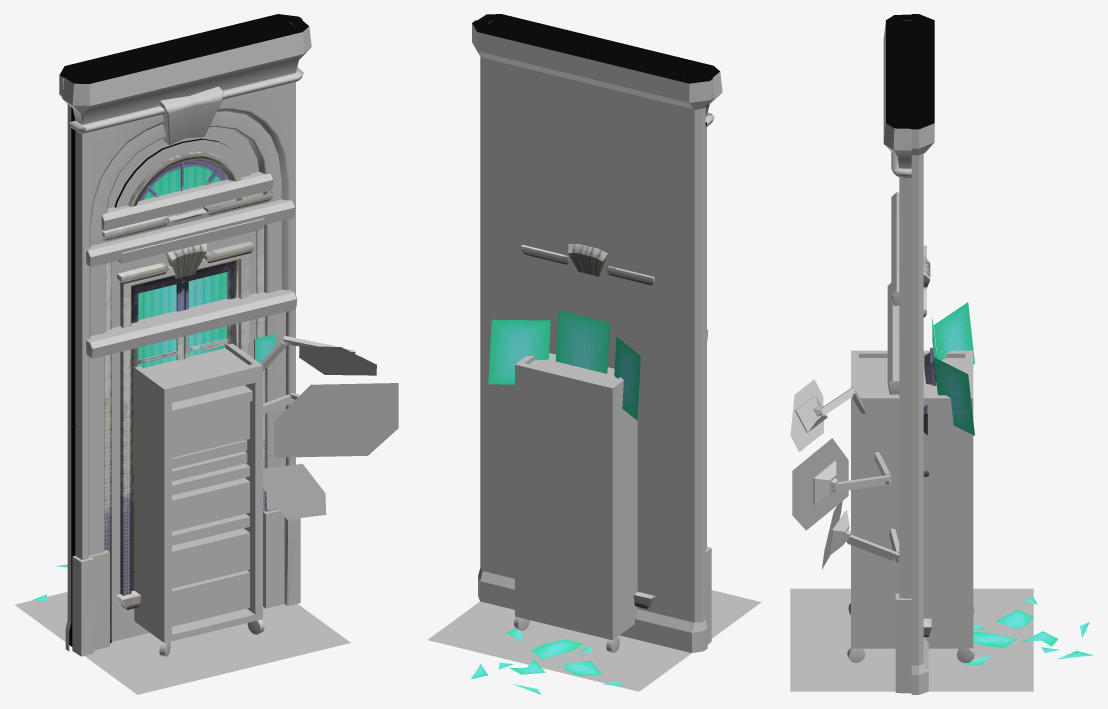
The model's file is Level1_Structure.fbx.
3 views of the same model, side by side, from view 1: azimuth 30°, elevation 25°; view 2: azimuth 150°, elevation 25°; view 3: azimuth 270°, elevation 25° (orthographic).
Parts seen in each view (by area): view 1: Walls_Arch (×5), ServerBase, Panels, polySurface13 (×2), Floor_Cobble, ServerBase3, Walls_WallpaperTrimYellow (×2), DoorFrame, WallCore, pCube84 (×2), Walls_Arch1, ServerBase2 (+1 smaller); view 2: Walls_WallpaperTrimYellow (×5), ServerBase, Floor_Cobble, Base, Walls_Arch (×3), WallCore, polySurface13, pCube84, Walls_Low_Edge_Walls_WallpaperTrimYellow, Walls_Arch1; view 3: ServerBase, Walls_Arch (×3), Floor_Cobble, Walls_WallpaperTrimYellow (×3), Panels, Base, WallCore, pCube84, Walls_Low_Edge_Walls_WallpaperTrimYellow, Walls_Low_Edge_Walls_Arch, polySurface13.
Boxes of the visible parts, box(x1,y1,x2,y2) form: Walls_Arch (×5): box(62, 20, 311, 656); ServerBase: box(134, 343, 264, 656); Panels: box(260, 336, 398, 519); polySurface13 (×2): box(116, 151, 254, 609); Floor_Cobble: box(14, 592, 350, 694); ServerBase3: box(172, 385, 252, 545); Walls_WallpaperTrimYellow (×2): box(59, 14, 302, 651); DoorFrame: box(101, 191, 275, 643); WallCore: box(70, 18, 295, 646); pCube84 (×2): box(33, 165, 227, 601); Walls_Arch1: box(72, 218, 290, 656); ServerBase2: box(172, 552, 249, 614); Walls_WallpaperTrimYellow (×5): box(472, 20, 713, 652); ServerBase: box(514, 353, 637, 652); Floor_Cobble: box(428, 590, 761, 691); Base: box(488, 310, 640, 420); Walls_Arch (×3): box(477, 14, 722, 643); WallCore: box(483, 19, 706, 125); polySurface13: box(521, 244, 652, 608); pCube84: box(471, 628, 621, 694); Walls_Low_Edge_Walls_WallpaperTrimYellow: box(478, 428, 707, 651); Walls_Arch1: box(705, 421, 711, 644); ServerBase: box(847, 350, 974, 662); Walls_Arch (×3): box(883, 14, 911, 693); Floor_Cobble: box(790, 588, 1033, 691); Walls_WallpaperTrimYellow (×3): box(911, 14, 934, 694); Panels: box(790, 379, 899, 569); Base: box(924, 302, 974, 435); WallCore: box(899, 20, 923, 177); pCube84: box(962, 597, 1092, 665); Walls_Low_Edge_Walls_WallpaperTrimYellow: box(911, 473, 923, 694); Walls_Low_Edge_Walls_Arch: box(895, 471, 911, 692); polySurface13: box(923, 245, 931, 636).
Size of the model in its own units: 129 by 258 by 125.
